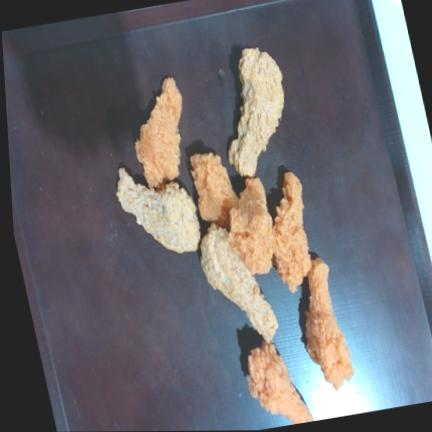chicken: (202, 223, 278, 342), (117, 168, 200, 253), (229, 48, 284, 176), (306, 258, 355, 391), (248, 340, 314, 424), (135, 77, 182, 186), (272, 172, 311, 292), (230, 178, 273, 274), (191, 153, 239, 228)
